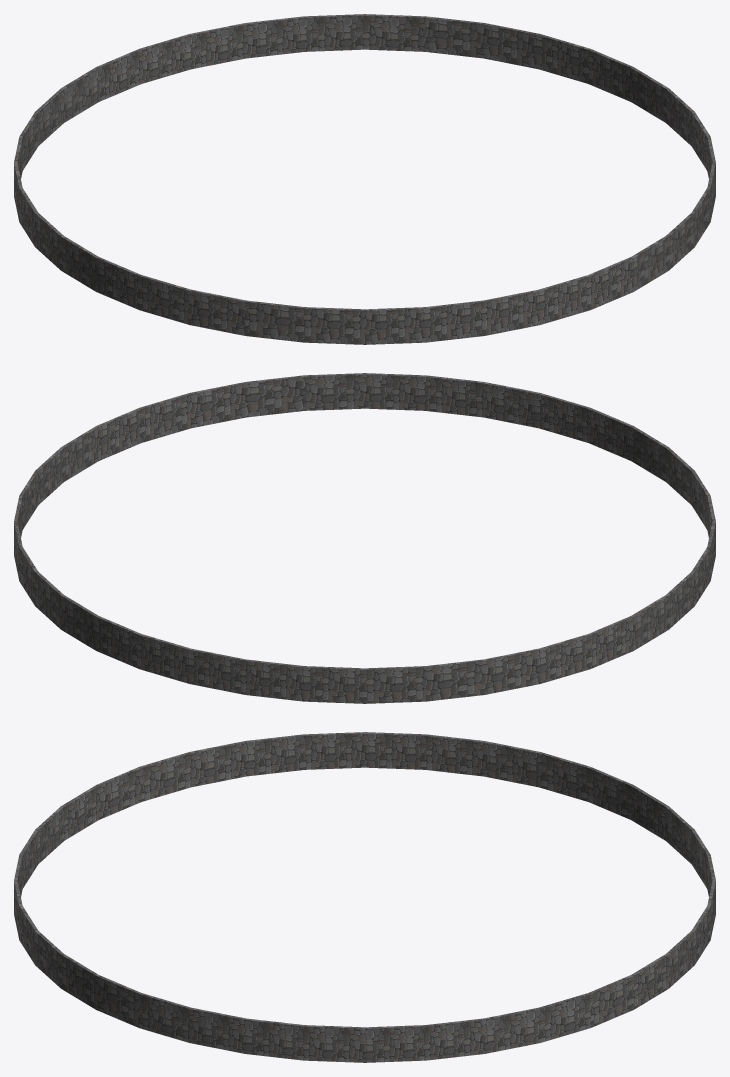
Rendered from wall.FBX.
3 views of the same model, one above another, from view 1: azimuth 30°, elevation 25°; view 2: azimuth 150°, elevation 25°; view 3: azimuth 270°, elevation 25° (orthographic).
Visible parts, largest first — view 1: Tube001; view 2: Tube001; view 3: Tube001.
Boxes of the visible parts, box(x1,y1,x2,y2) form: Tube001: box(14, 14, 715, 344); Tube001: box(14, 373, 715, 703); Tube001: box(14, 732, 715, 1062).
Bounding box in the file's own units: 7778 × 417 × 7778.
1 material, 1 textured.
